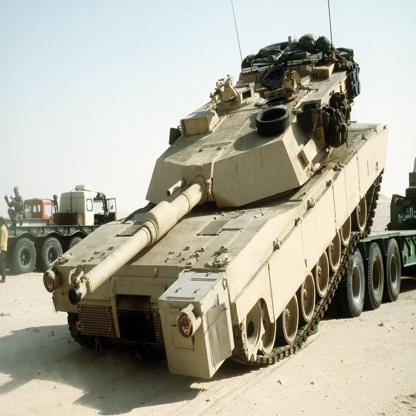Tank: (43, 11, 391, 387)
